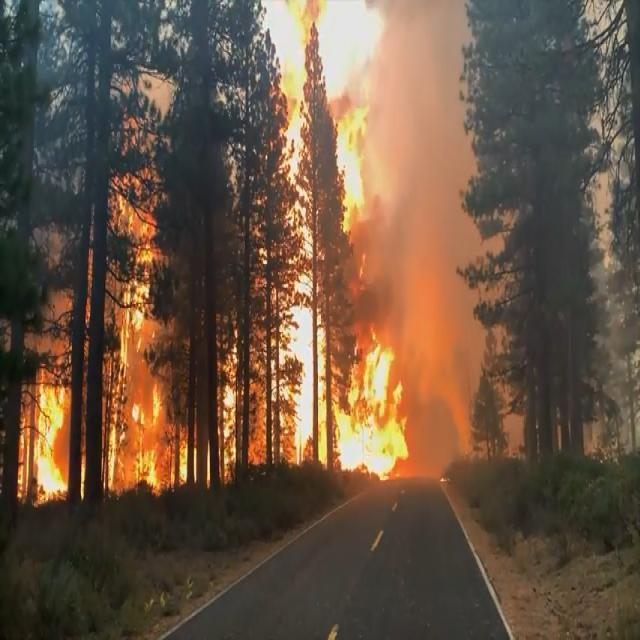Fire: (21, 1, 410, 504)
